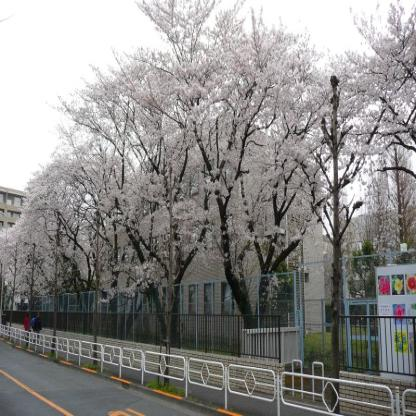Someiyoshino: (138, 0, 332, 312), (332, 4, 415, 283), (121, 40, 198, 326), (58, 63, 136, 314), (0, 151, 77, 318)
